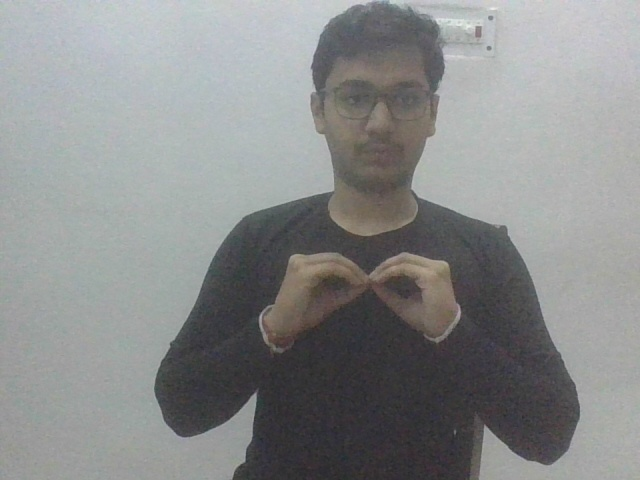B: (263, 248, 466, 345)
